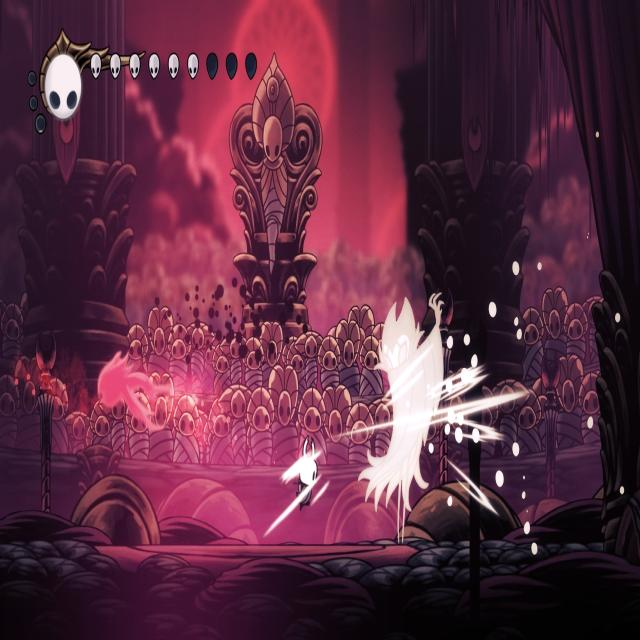Fire Bat: (98, 351, 162, 427)
Grimm: (356, 286, 449, 542)
Player: (279, 430, 321, 512)
